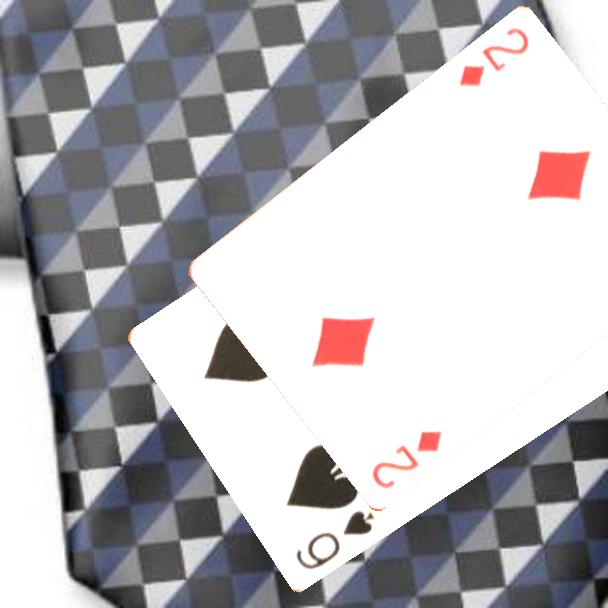d02: (455, 24, 532, 91), (368, 427, 445, 493)
s06: (291, 508, 377, 573)
